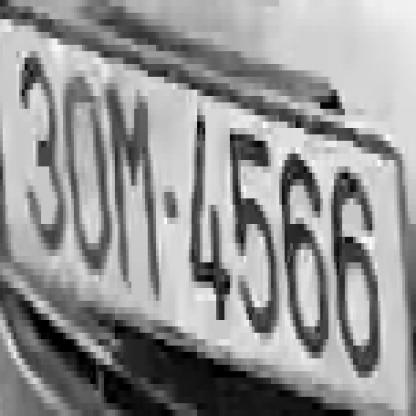0: (63, 77, 107, 275)
3: (19, 58, 63, 256)
4: (189, 115, 224, 314)
5: (227, 134, 279, 340)
6: (328, 173, 378, 371), (279, 154, 329, 352)
M: (110, 84, 162, 294)
